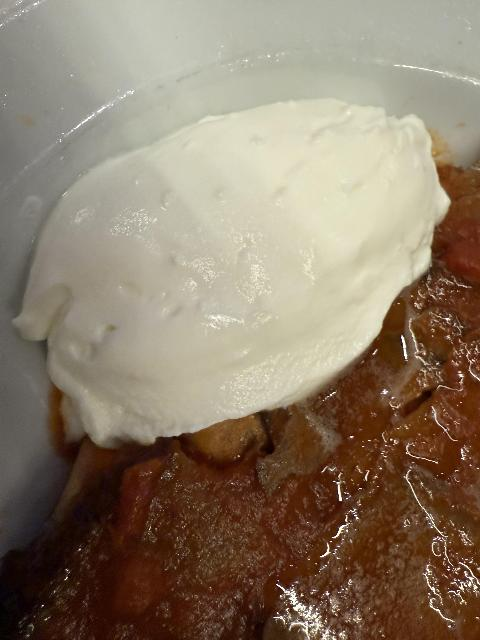Organik: (37, 113, 437, 398), (0, 411, 479, 640)
